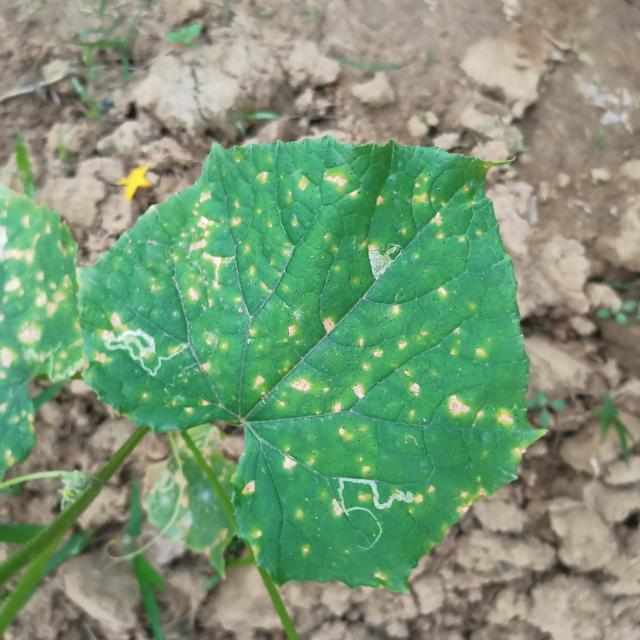disease_cucumber: (97, 156, 513, 554), (0, 206, 79, 439)
